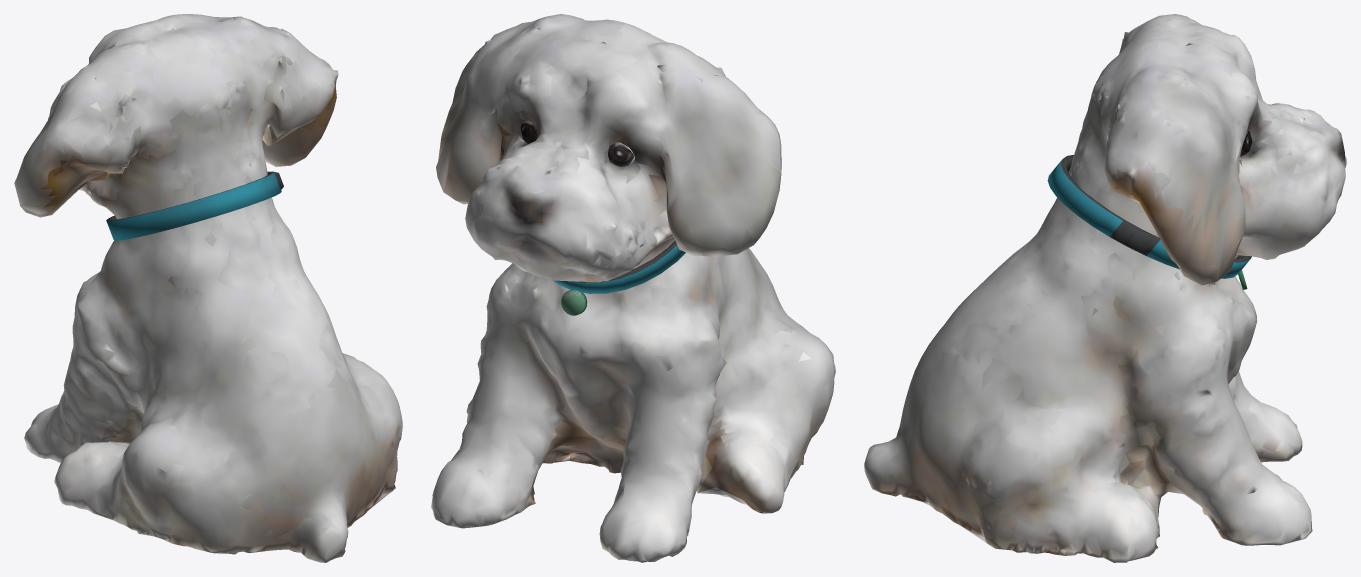
File: plushmishka.fbx
The picture shows the model from 3 angles, left to right: view 1: azimuth 30°, elevation 25°; view 2: azimuth 150°, elevation 25°; view 3: azimuth 270°, elevation 25°; orthographic projection. The views are drawn at different scales.
Parts seen in each view (by area): view 1: Cylinder; view 2: Cylinder; view 3: Cylinder.
Boxes of the visible parts, bbox=[...] form: Cylinder: bbox=[14, 14, 402, 562]; Cylinder: bbox=[431, 14, 835, 562]; Cylinder: bbox=[864, 14, 1346, 562].
Bounding box in the file's own units: 0.4727 × 0.6313 × 0.6158.
